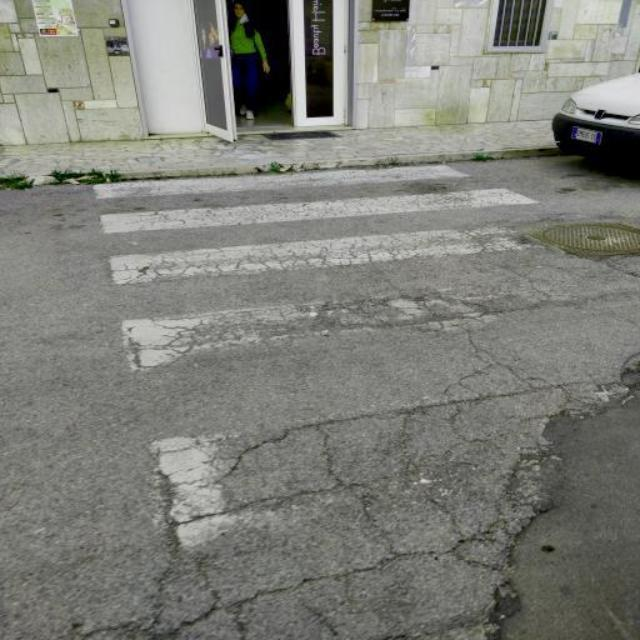sidewalk: (95, 163, 640, 640)
